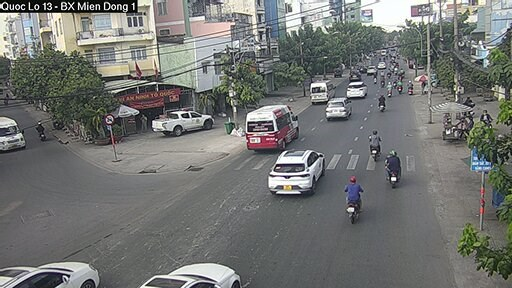car: (14, 240, 118, 288), (245, 148, 323, 202), (250, 94, 316, 147), (127, 264, 264, 288), (154, 109, 222, 141), (350, 75, 380, 108), (299, 82, 333, 107), (325, 99, 357, 119)
motorbike: (388, 148, 413, 204), (341, 167, 363, 224), (361, 131, 385, 161)
